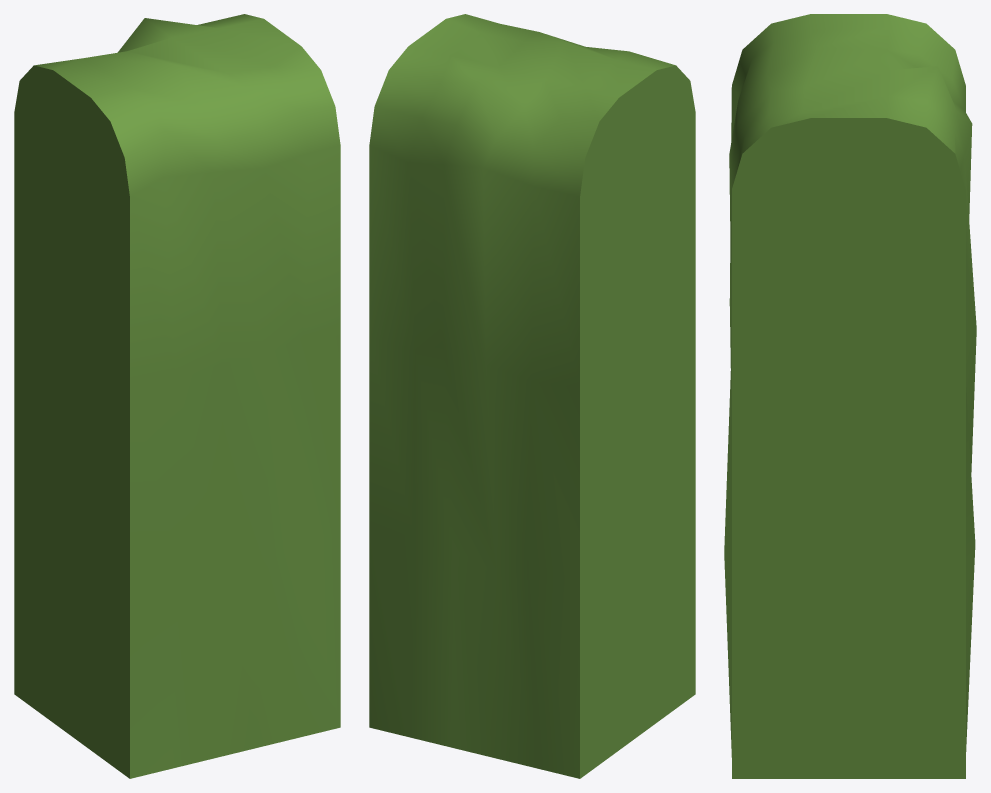
Rendered from hedge_1m.glb.
3 views of the same model, side by side, from view 1: azimuth 30°, elevation 25°; view 2: azimuth 150°, elevation 25°; view 3: azimuth 270°, elevation 25° (orthographic).
Parts seen in each view (by area): view 1: hedge_1m; view 2: hedge_1m; view 3: hedge_1m.
Part boxes in pixels (x1,y1,x2,y2): hedge_1m: (14,14,340,778); hedge_1m: (369,14,695,778); hedge_1m: (724,14,976,778).
Size of the model in its own units: 1 by 3 by 1.03.
1 material, 1 textured.
